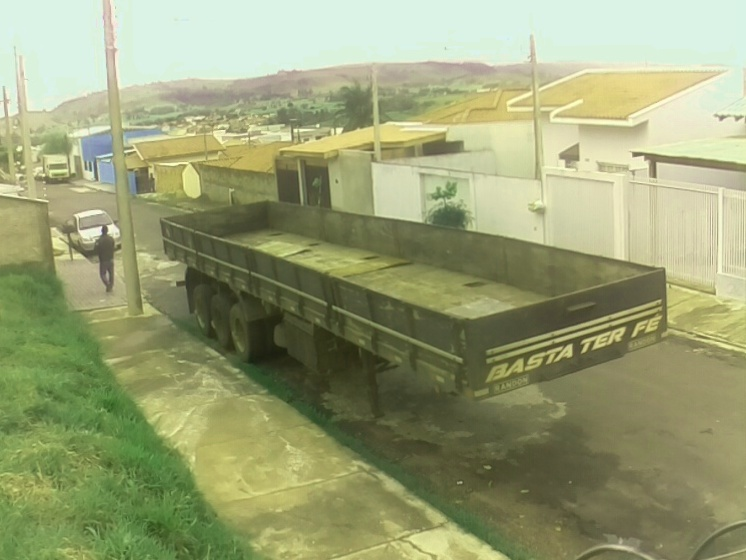person: (92, 224, 119, 296)
